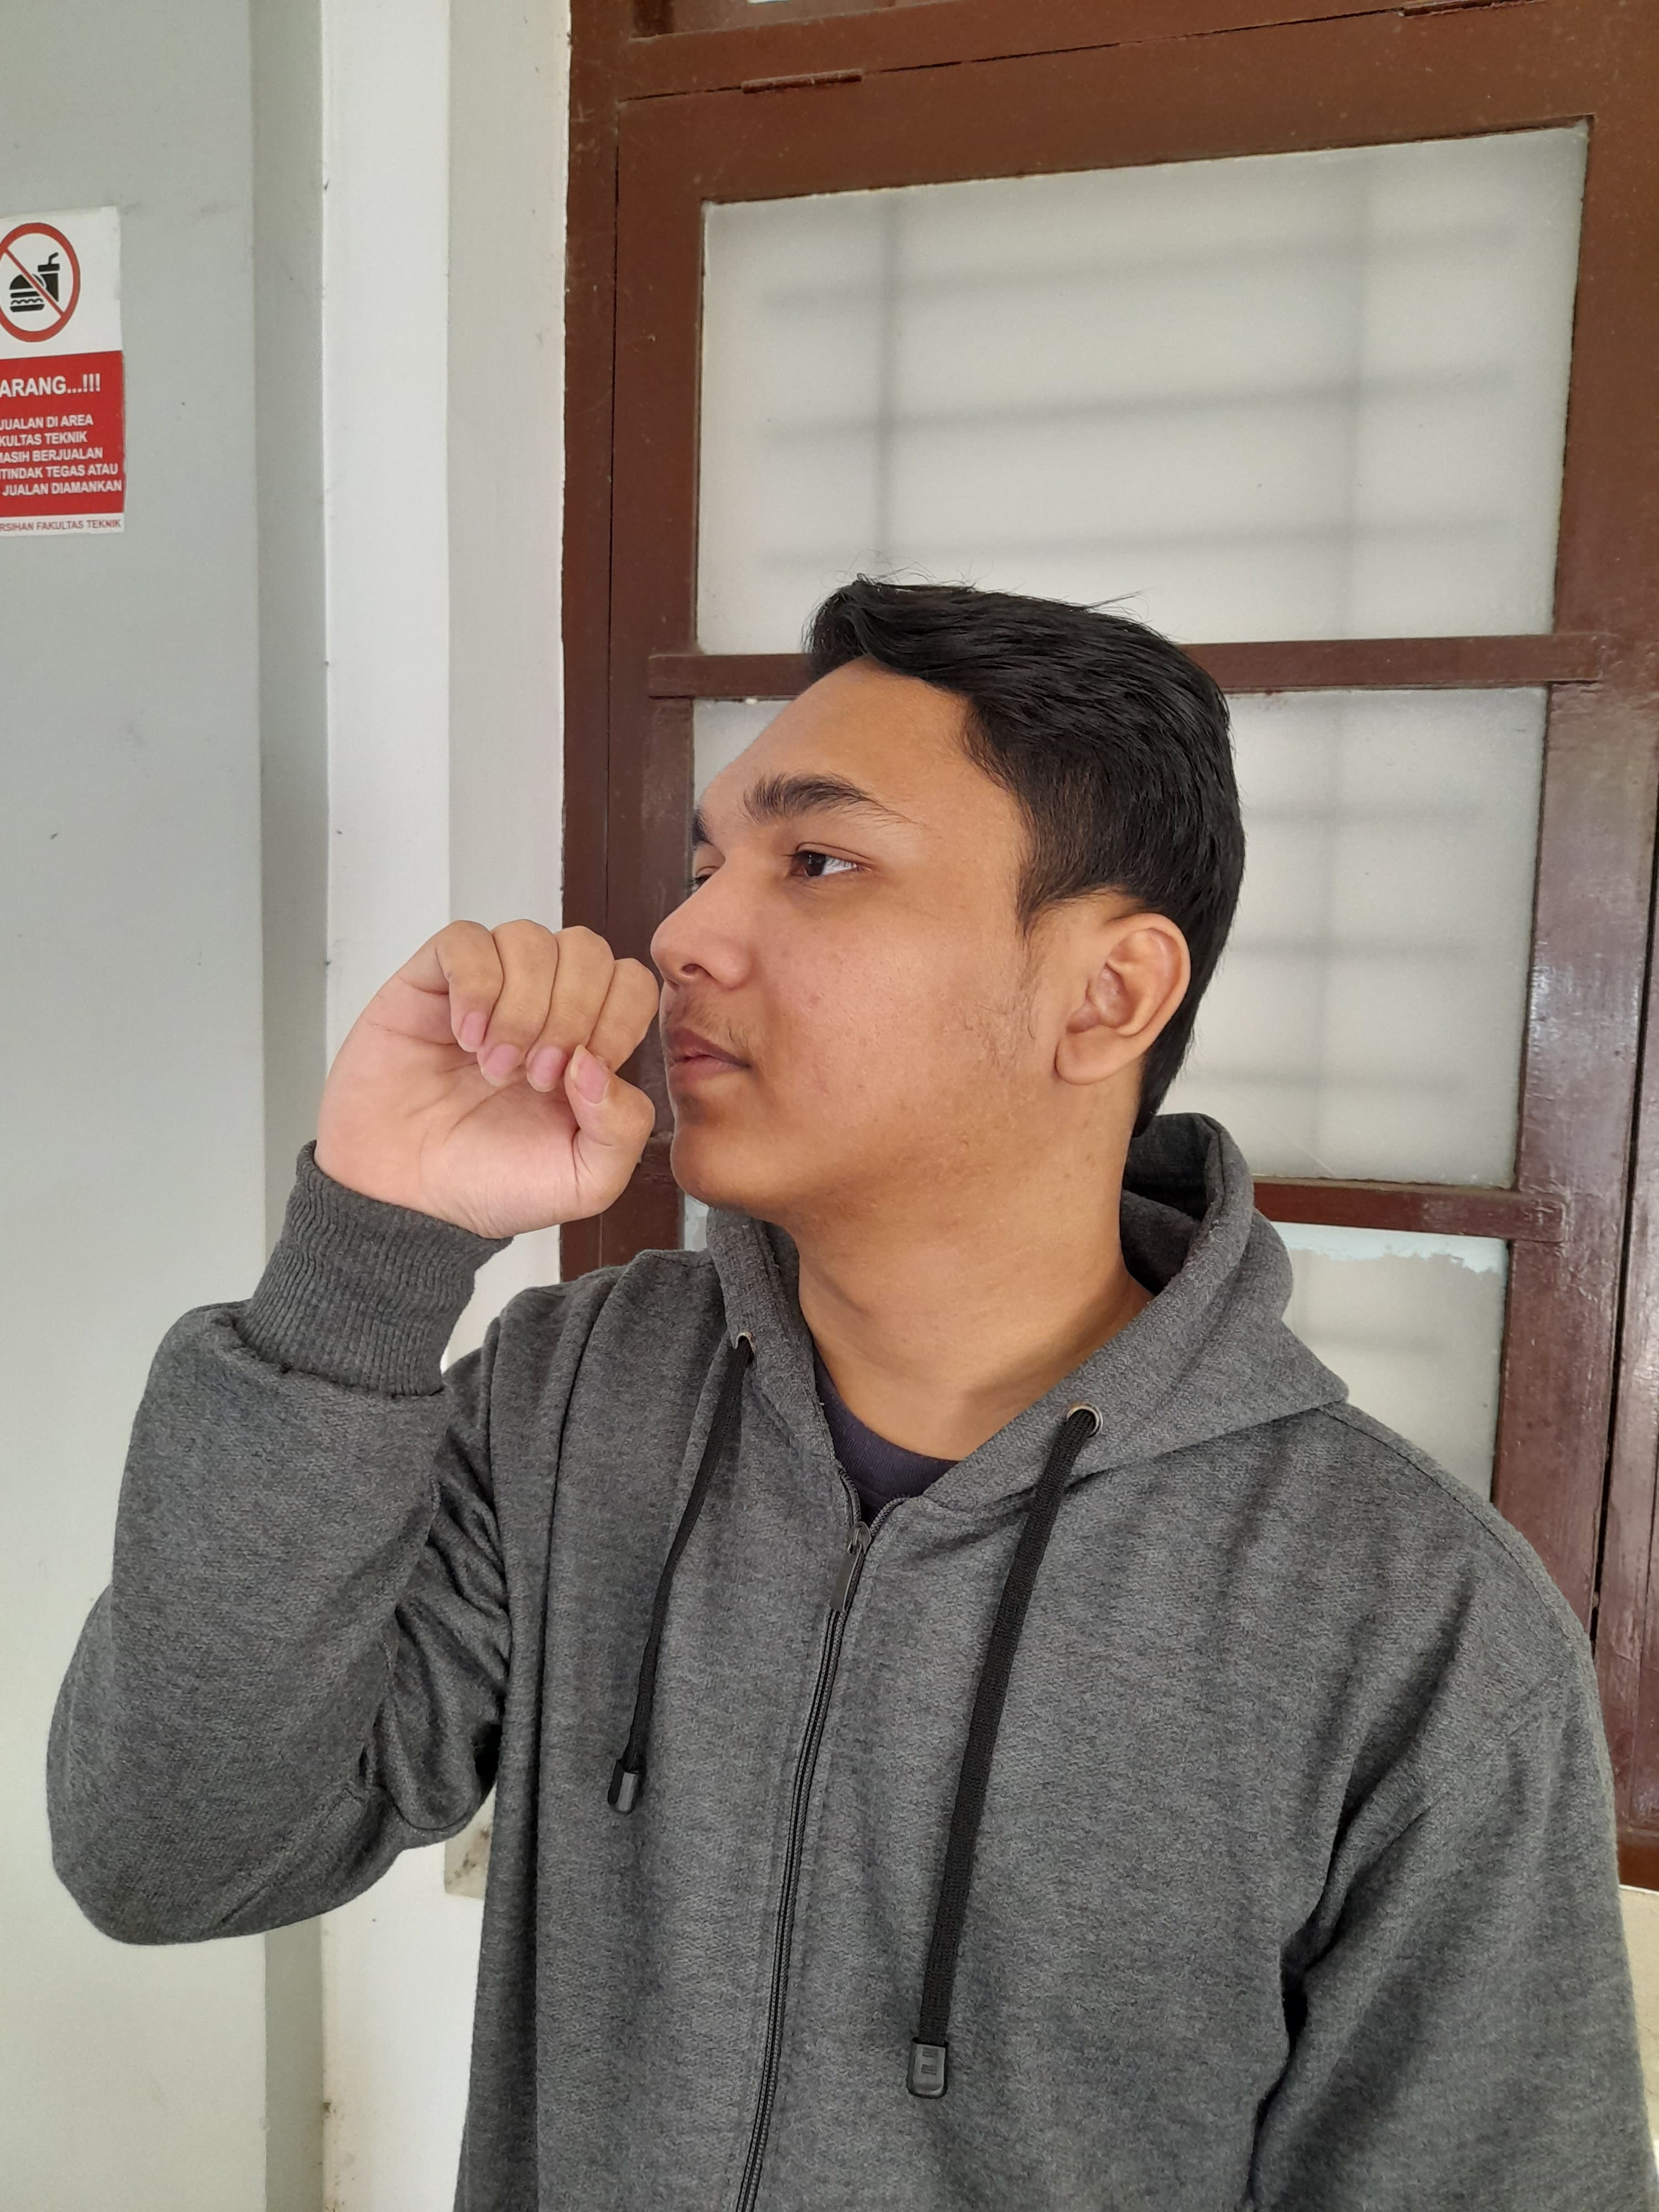Minum: (240, 848, 714, 1306)
